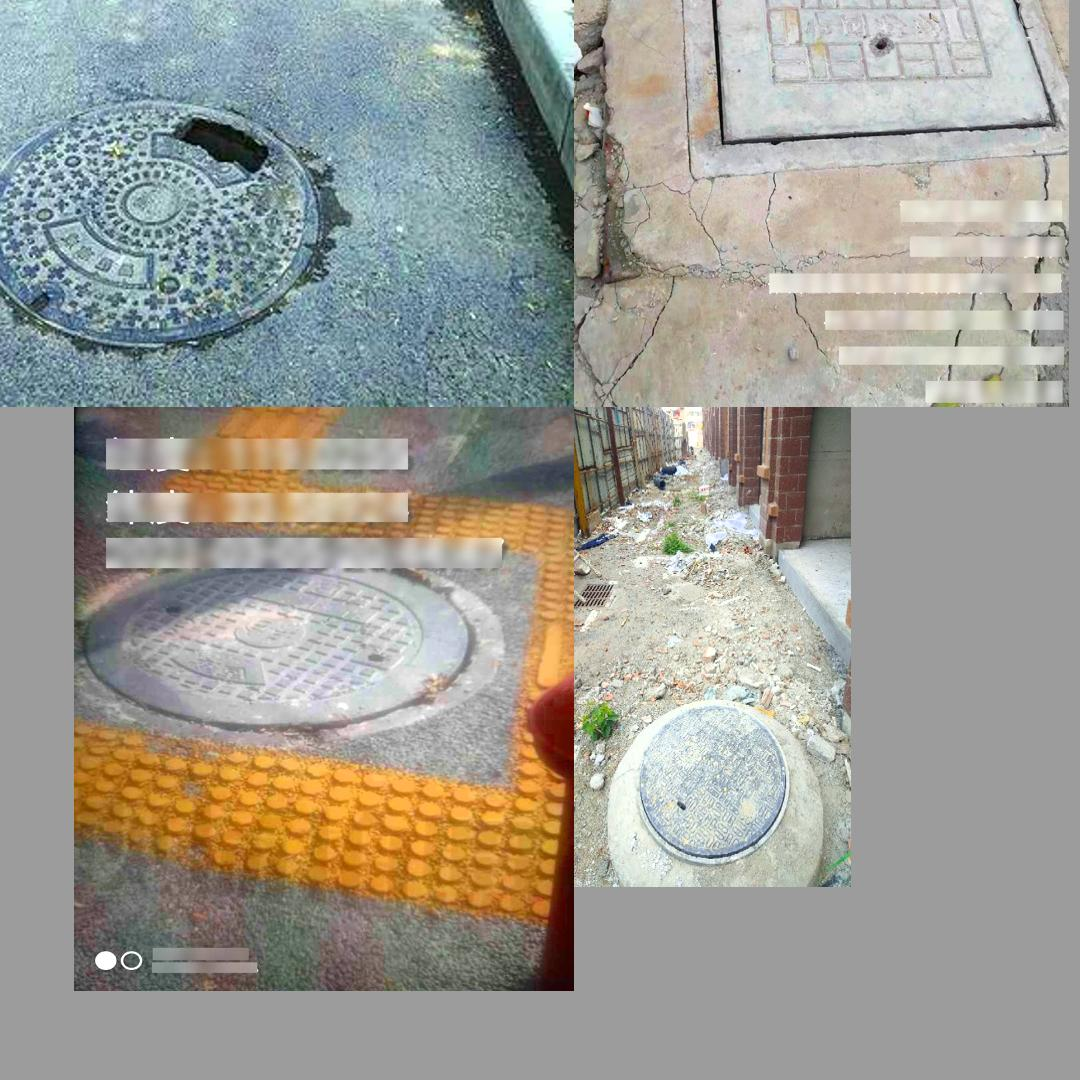good: (0, 70, 356, 350), (94, 520, 503, 745), (673, 0, 1068, 177), (636, 705, 789, 866)
